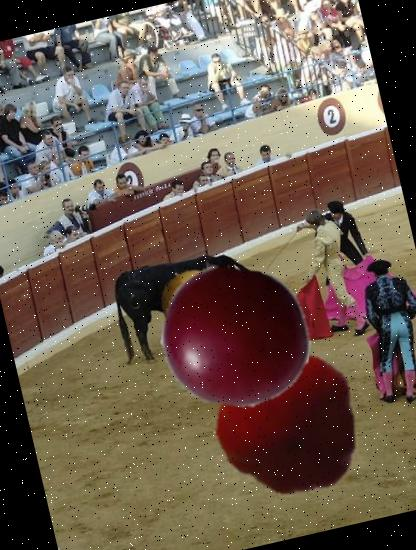Cherry: (146, 247, 326, 427)
Grapefruit: (152, 260, 236, 344)
Tomato: (199, 337, 372, 510)
